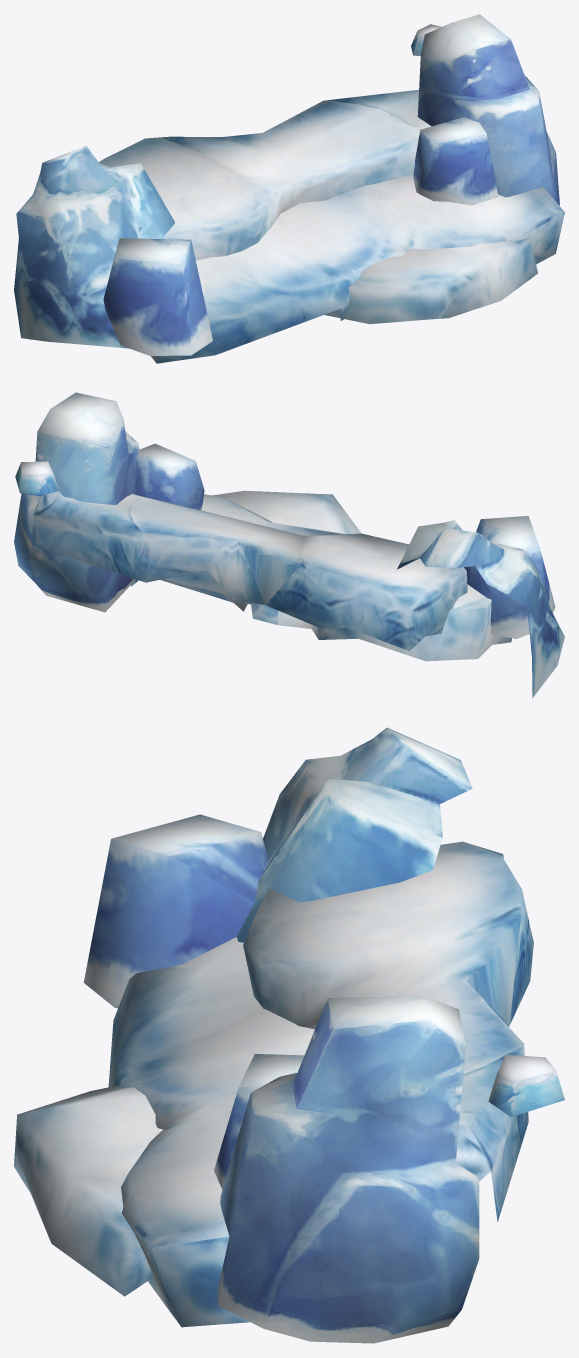
File: SM_Stairs_01.fbx
The picture shows the model from 3 angles, top to bottom: view 1: azimuth 30°, elevation 25°; view 2: azimuth 150°, elevation 25°; view 3: azimuth 270°, elevation 25°; orthographic projection. The views are drawn at different scales.
Visible parts, largest first — view 1: SM_Stairs_01; view 2: SM_Stairs_01; view 3: SM_Stairs_01.
Part boxes in pixels (x1,y1,x2,y2): SM_Stairs_01: (14, 14, 564, 363); SM_Stairs_01: (14, 392, 564, 698); SM_Stairs_01: (14, 727, 564, 1343).
Size of the model in its own units: 7.91 by 2.87 by 4.4.
